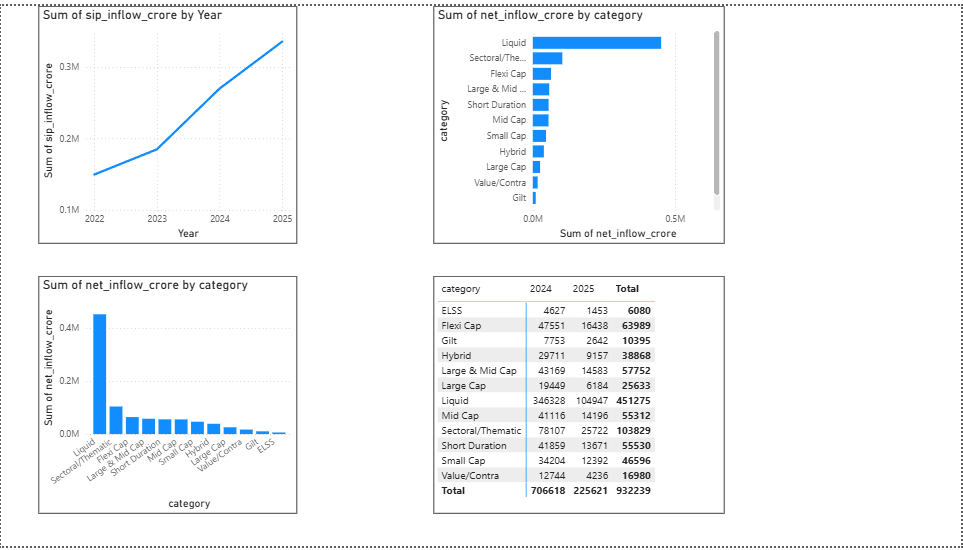

Layout of this report page (visuals, bound fields, positions):
{"tool":"powerbi","page":{"name":"SIP & Market Trends","canvas":[1280,720],"ordinal":3},"visuals":[{"type":"lineChart","fields":{"Category":["04_monthly_sip_inflows.month.Variation.Date Hierarchy.Year","04_monthly_sip_inflows.month.Variation.Date Hierarchy.Quarter","04_monthly_sip_inflows.month.Variation.Date Hierarchy.Month","04_monthly_sip_inflows.month.Variation.Date Hierarchy.Day"],"Y":["Sum(04_monthly_sip_inflows.sip_inflow_crore)"]},"box":[50.8,0,344.4,317],"z":0},{"type":"clusteredBarChart","fields":{"Y":["Sum(05_category_inflows.net_inflow_crore)"],"Category":["05_category_inflows.category"]},"box":[576.3,0,388.3,317],"z":1000},{"type":"clusteredColumnChart","fields":{"Category":["05_category_inflows.category"],"Y":["Sum(05_category_inflows.net_inflow_crore)"]},"box":[50.8,359.5,344.4,317],"z":2000},{"type":"pivotTable","fields":{"Rows":["05_category_inflows.category"],"Columns":["05_category_inflows.month.Variation.Date Hierarchy.Year","05_category_inflows.month.Variation.Date Hierarchy.Quarter","05_category_inflows.month.Variation.Date Hierarchy.Month","05_category_inflows.month.Variation.Date Hierarchy.Day"],"Values":["Sum(05_category_inflows.net_inflow_crore)"]},"box":[576.3,359.5,388.3,317],"z":3000}]}

Visuals, with their boxes in screenshot pixels (x1, y1, x2, y2), scaled from the page's 1280x720 canvas onto the 963x550 screenshot:
lineChart - 04_monthly_sip_inflows.month.Variation.Date Hierarchy.Year x 04_monthly_sip_inflows.month.Variation.Date Hierarchy.Quarter: [38,0,297,242]
clusteredBarChart - Sum(05_category_inflows.net_inflow_crore) x 05_category_inflows.category: [434,0,726,242]
clusteredColumnChart - 05_category_inflows.category x Sum(05_category_inflows.net_inflow_crore): [38,275,297,517]
pivotTable - 05_category_inflows.category x 05_category_inflows.month.Variation.Date Hierarchy.Year: [434,275,726,517]
